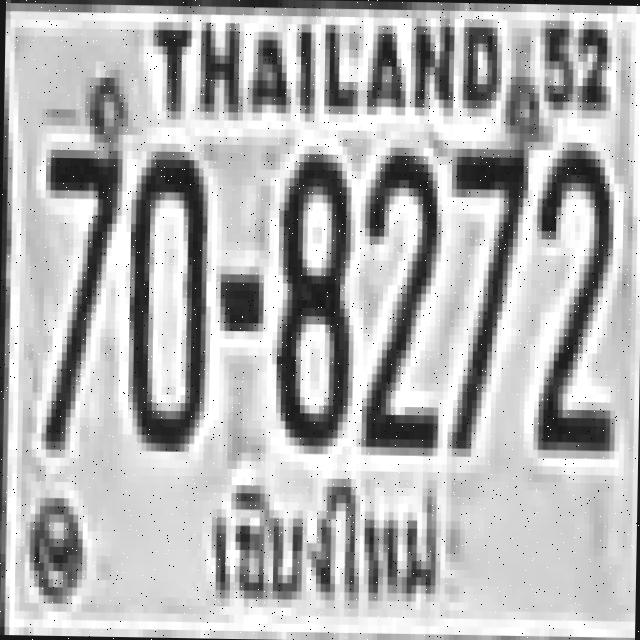0: (122, 142, 204, 444)
2: (530, 138, 612, 446), (358, 142, 441, 444)
7: (447, 140, 524, 449), (41, 141, 118, 442), (42, 145, 118, 365)
8: (270, 145, 347, 438)
ChiangMai: (201, 472, 451, 612)
